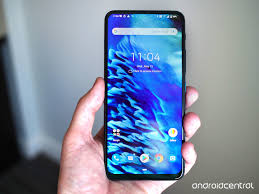asus: (101, 8, 185, 182)
